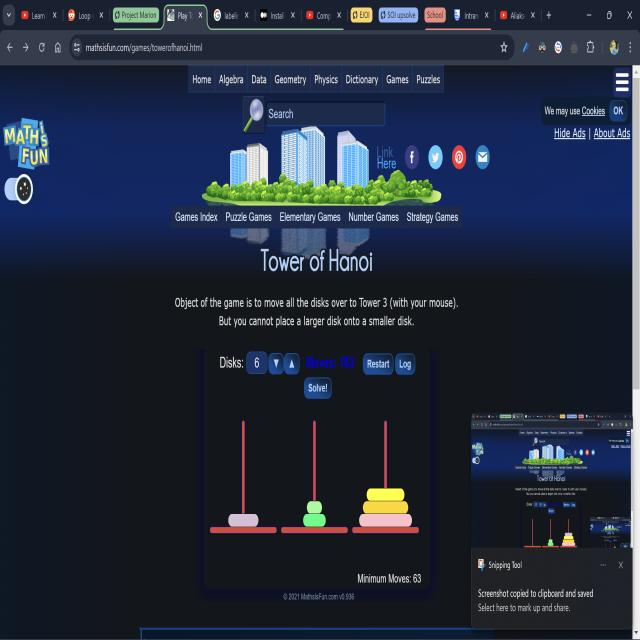disk1: (377, 463, 393, 475)
disk2: (303, 514, 326, 526)
disk3: (370, 476, 401, 488)
disk4: (367, 488, 404, 501)
disk5: (363, 501, 408, 514)
disk6: (359, 514, 412, 526)
